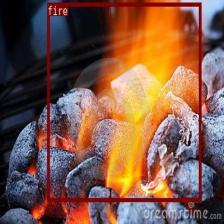fire: (47, 2, 201, 201)
